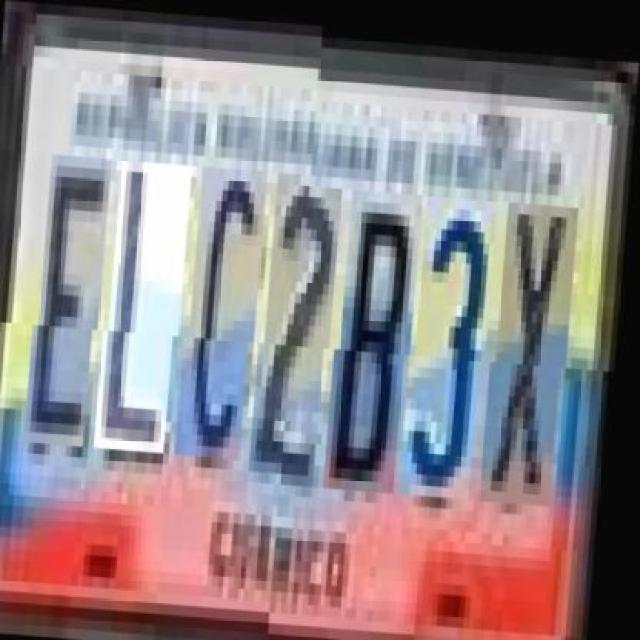2: (261, 178, 344, 482)
3: (412, 188, 501, 492)
b: (336, 184, 426, 487)
c: (186, 174, 269, 466)
e: (36, 164, 113, 456)
l: (106, 169, 194, 462)
x: (492, 193, 580, 496)
